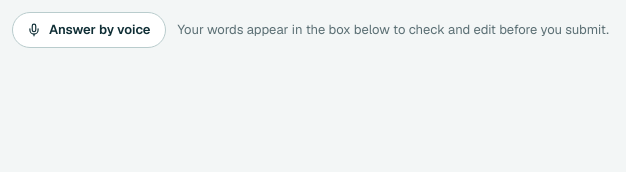
Test: VoiceRecorder › shows the server's reason when a recording is refused
The width and height of the screenshot is (626, 172).
Click the button "Answer by voice": (89, 30) [12,12,166,48]
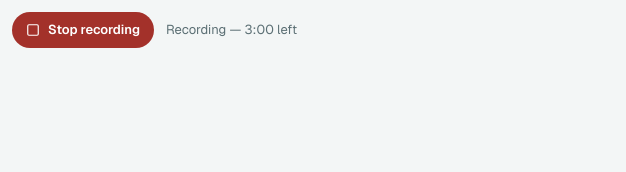
Click the button "Stop recording": (83, 30) [12,12,154,48]
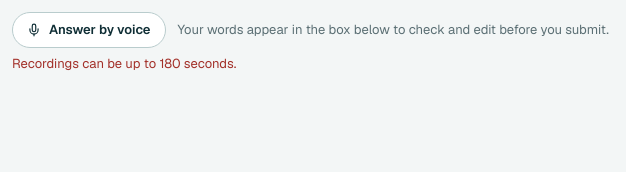
Result: the message reads "Recordings can be up to 180 seconds." at [12,55,236,72]
